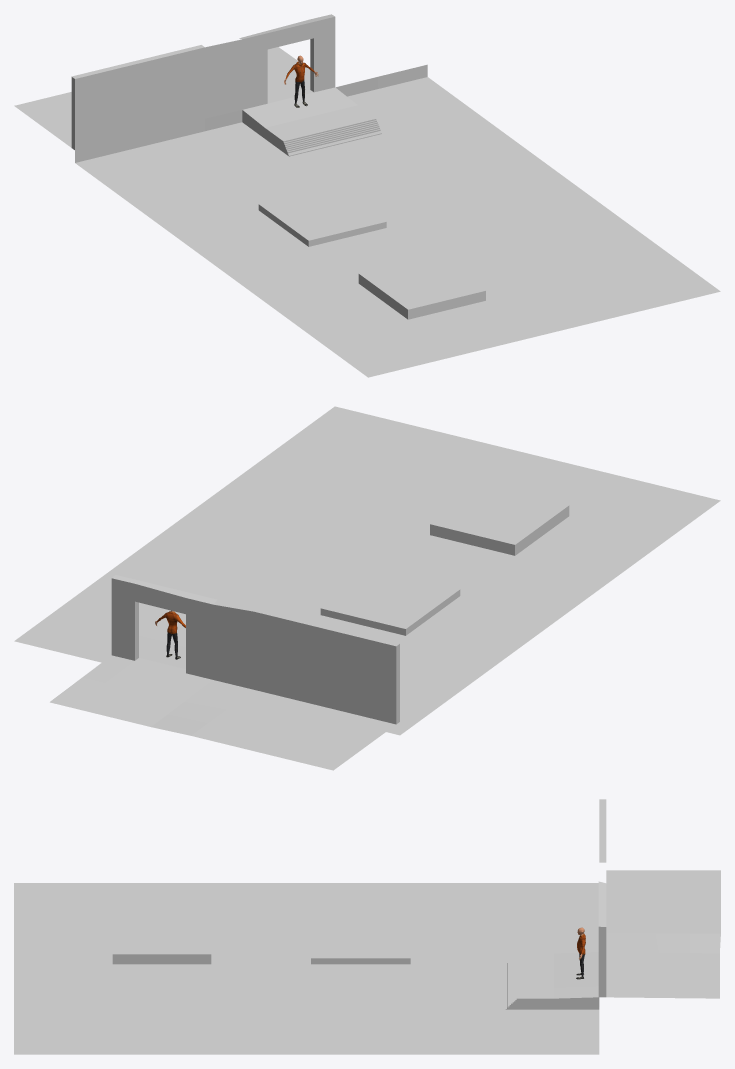
File: mapa_test.glb
The picture shows the model from 3 angles, top to bottom: view 1: azimuth 30°, elevation 25°; view 2: azimuth 150°, elevation 25°; view 3: azimuth 270°, elevation 25°; orthographic projection. The views are drawn at different scales.
Parts seen in each view (by area): view 1: Plane; view 2: Plane; view 3: Plane.
Part boxes in pixels (x1=…): Plane: x1=14, y1=14, x2=720, y2=377; Plane: x1=14, y1=406, x2=720, y2=770; Plane: x1=14, y1=799, x2=720, y2=1054.
Bounding box in the file's own units: 8.26 × 1.88 × 14.36.
1 material, 1 textured.
